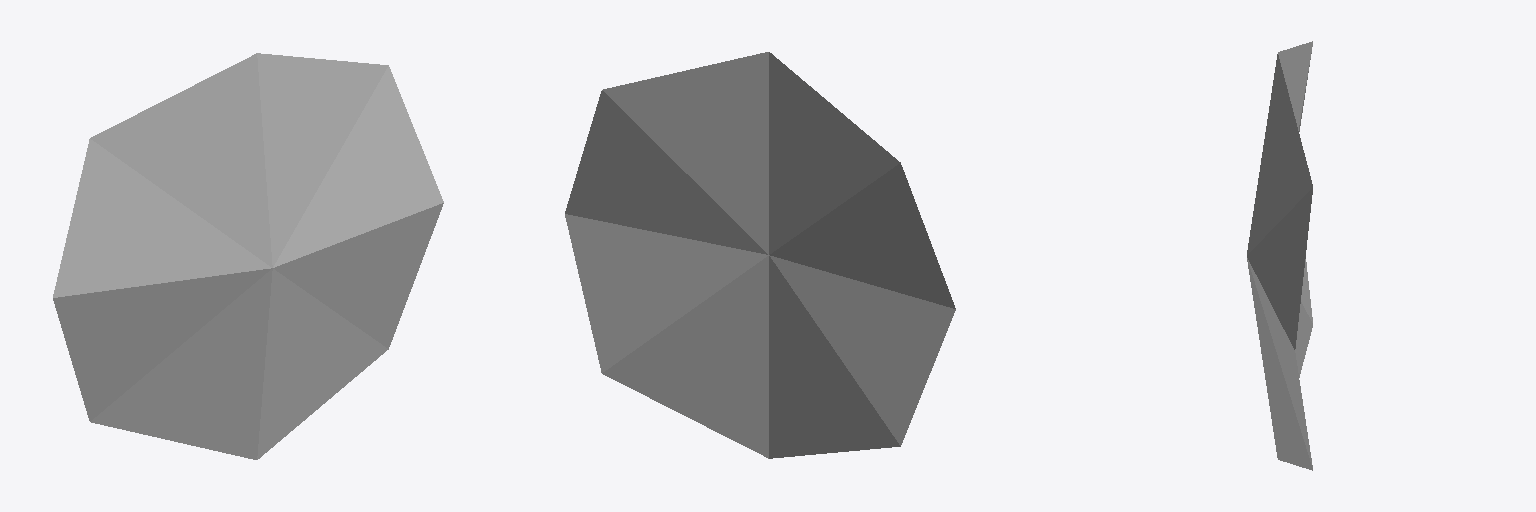
The model's file is chopped_sphere_slice_05.obj.
3 renders of one model, left to right at view 1: azimuth 30°, elevation 25°; view 2: azimuth 150°, elevation 25°; view 3: azimuth 270°, elevation 25°, orthographic.
Visible parts, largest first — view 1: fully_chopped.005_Cube.007; view 2: fully_chopped.005_Cube.007; view 3: fully_chopped.005_Cube.007.
Part boxes in pixels (x1,y1,x2,y2): fully_chopped.005_Cube.007: (53, 53, 443, 459); fully_chopped.005_Cube.007: (565, 52, 955, 458); fully_chopped.005_Cube.007: (1247, 41, 1312, 470).
Bounding box in the file's own units: 0.4738 × 0.4711 × 0.0701.